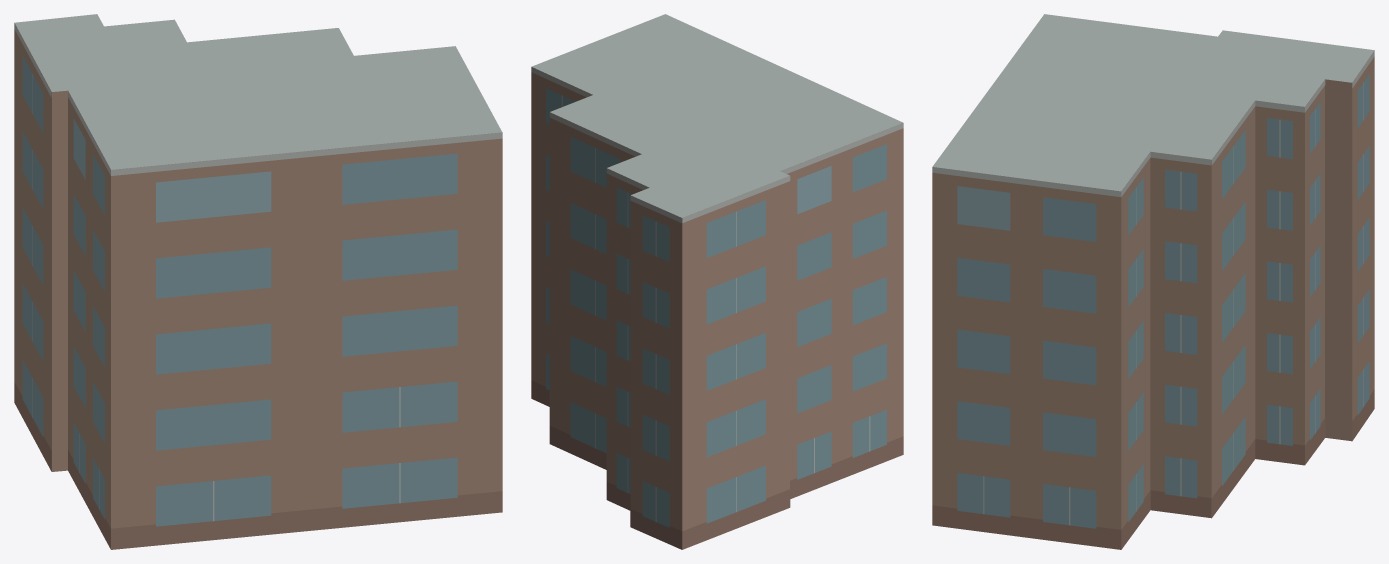
The model's file is survey-upis-32838374.glb.
The picture shows the model from 3 angles, left to right: view 1: azimuth 30°, elevation 25°; view 2: azimuth 150°, elevation 25°; view 3: azimuth 270°, elevation 25°; orthographic projection. The views are drawn at different scales.
Visible parts, largest first — view 1: survey-upis-32838374.tmp; view 2: survey-upis-32838374.tmp; view 3: survey-upis-32838374.tmp.
Boxes of the visible parts, x1,y1,x2,y2 form: survey-upis-32838374.tmp: [14, 14, 502, 549]; survey-upis-32838374.tmp: [531, 14, 903, 549]; survey-upis-32838374.tmp: [932, 14, 1374, 549].
Size of the model in its own units: 16.04 by 15.1 by 16.9.
